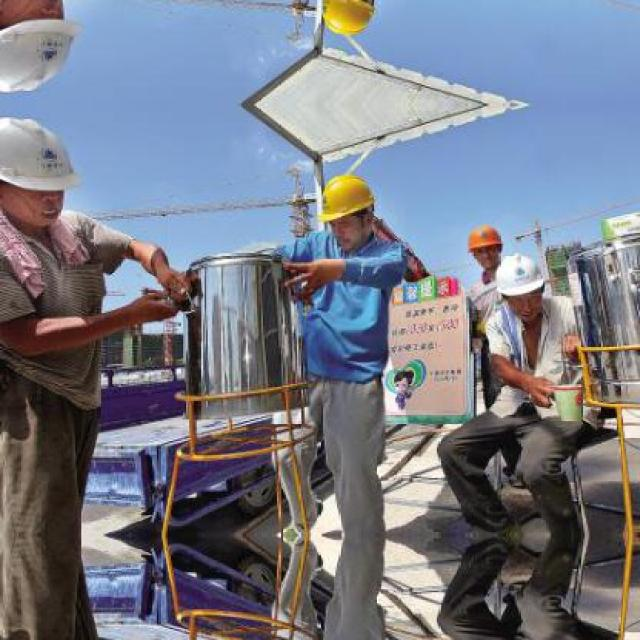helmet: (0, 109, 85, 246), (0, 0, 85, 102), (316, 165, 379, 250), (495, 239, 548, 324), (315, 0, 380, 45), (465, 218, 507, 274)
